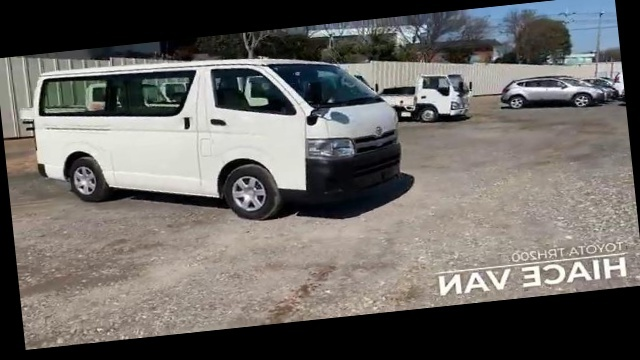van: (22, 33, 407, 228)
